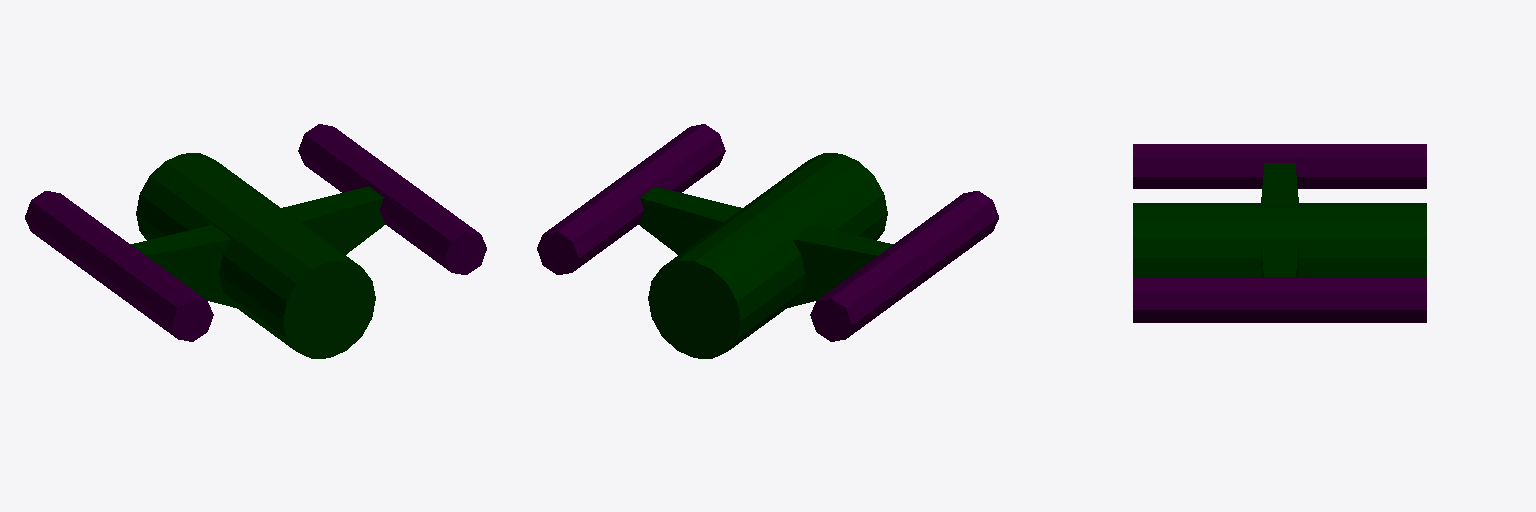
Rendered from lim.obj.
3 renders of one model, left to right at view 1: azimuth 30°, elevation 25°; view 2: azimuth 150°, elevation 25°; view 3: azimuth 270°, elevation 25°, orthographic.
Bounding box in the file's own units: 1.36 × 0.4 × 1.1.